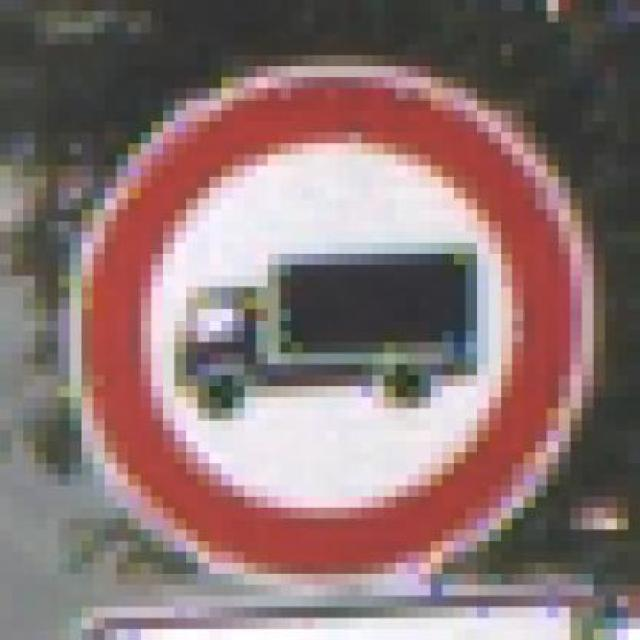Truck traffic is prohibited: (58, 44, 605, 607)
